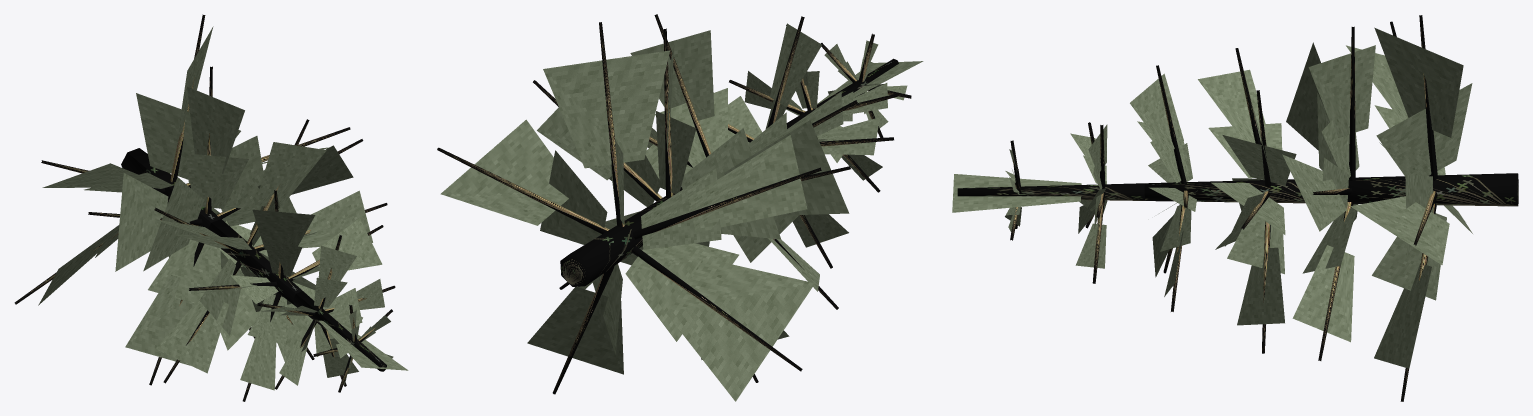
The model's file is PZ_ALP_LOD1_12_Alpine_Fir.glb.
3 views of the same model, side by side, from view 1: azimuth 30°, elevation 25°; view 2: azimuth 150°, elevation 25°; view 3: azimuth 270°, elevation 25° (orthographic). The views are drawn at different scales.
Visible parts, largest first — view 1: NeedleSprigCards_DoubleSided_MASK, StructuralBranches_Conifer, TreeTrunk_Bark; view 2: NeedleSprigCards_DoubleSided_MASK, StructuralBranches_Conifer, TreeTrunk_Bark; view 3: NeedleSprigCards_DoubleSided_MASK, TreeTrunk_Bark, StructuralBranches_Conifer.
Part boxes in pixels (x1,y1,x2,y2): NeedleSprigCards_DoubleSided_MASK: (38, 26, 408, 390); StructuralBranches_Conifer: (14, 14, 395, 401); TreeTrunk_Bark: (121, 148, 386, 371); NeedleSprigCards_DoubleSided_MASK: (440, 23, 923, 401); StructuralBranches_Conifer: (437, 14, 911, 394); TreeTrunk_Bark: (560, 58, 898, 286); NeedleSprigCards_DoubleSided_MASK: (952, 27, 1472, 368); TreeTrunk_Bark: (957, 173, 1518, 206); StructuralBranches_Conifer: (1010, 15, 1437, 401).
Size of the model in its own units: 1.57 by 1.57 by 2.22.
Materials: 2 (2 with a texture image).
